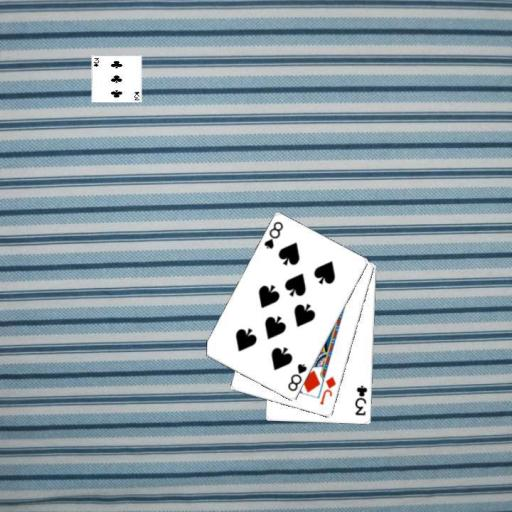3C: (352, 383, 369, 418)
8S: (285, 361, 309, 393), (261, 218, 284, 251)
JD: (316, 373, 338, 407)
